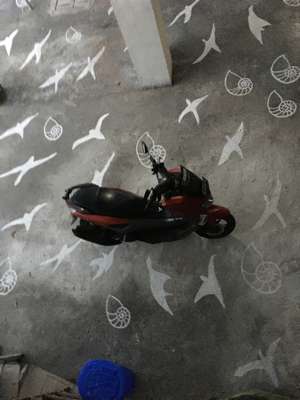moto: (63, 154, 242, 252)
